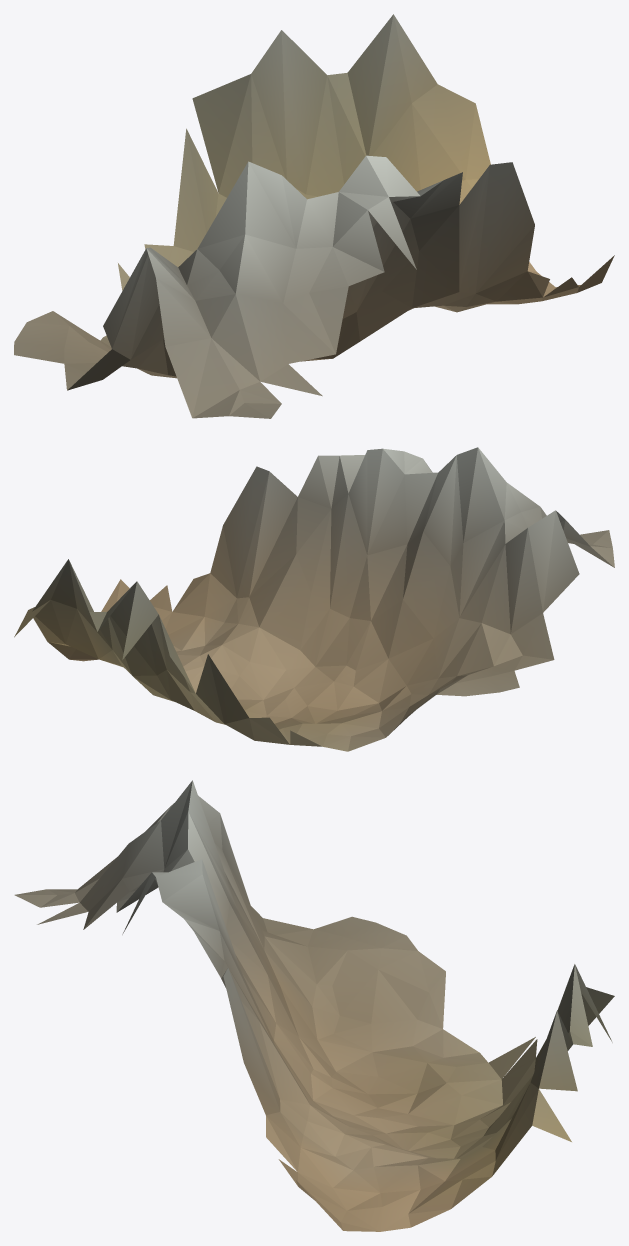
3 views of the same model, one above another, from view 1: azimuth 30°, elevation 25°; view 2: azimuth 150°, elevation 25°; view 3: azimuth 270°, elevation 25° (orthographic). The views are drawn at different scales.
Parts seen in each view (by area): view 1: 塔里木沙海; view 2: 塔里木沙海; view 3: 塔里木沙海.
Part boxes in pixels (x1=…): 塔里木沙海: x1=14, y1=14, x2=614, y2=418; 塔里木沙海: x1=14, y1=447, x2=614, y2=751; 塔里木沙海: x1=14, y1=780, x2=614, y2=1231.
Bounding box in the file's own units: 10.89 × 5.55 × 10.85.
